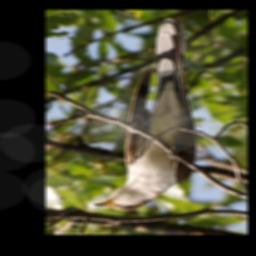Cuckoo: (92, 16, 199, 212)
